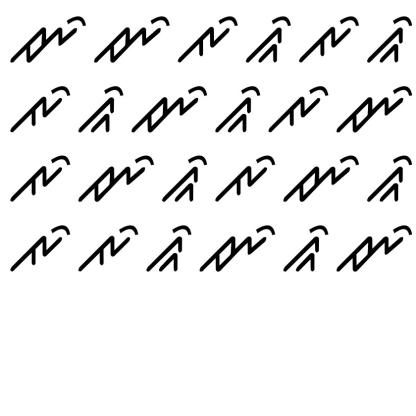ay: (299, 6, 362, 67), (8, 215, 72, 274), (6, 81, 73, 134), (7, 149, 70, 202), (216, 151, 277, 205), (267, 84, 330, 134), (78, 222, 140, 272), (177, 14, 239, 64)
nggay: (161, 152, 208, 210), (145, 223, 194, 278), (244, 12, 292, 65), (283, 220, 330, 274), (366, 152, 413, 205), (366, 12, 413, 65), (75, 86, 124, 136), (214, 82, 261, 134)
njay: (11, 9, 90, 67), (280, 152, 360, 207), (335, 84, 414, 138), (335, 221, 412, 275), (130, 84, 209, 136), (197, 225, 276, 276), (78, 154, 156, 204), (95, 17, 173, 66)
